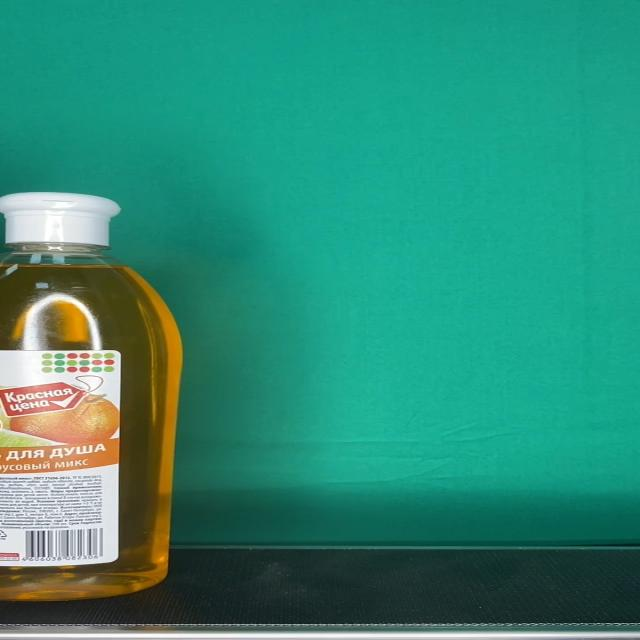Bottle: (0, 192, 182, 602)
Cap: (0, 193, 120, 245)
